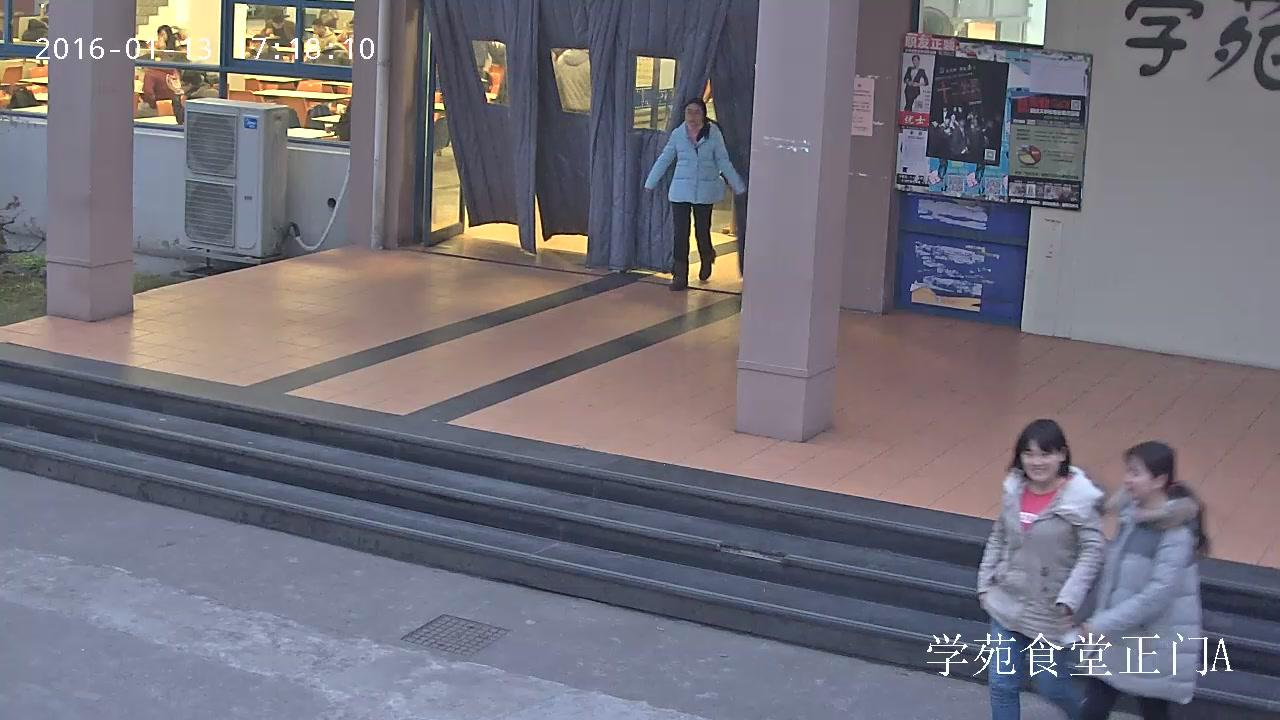person: (1064, 440, 1208, 720), (976, 419, 1108, 720), (644, 98, 746, 291), (164, 68, 220, 126), (550, 47, 592, 111), (134, 54, 174, 118), (903, 54, 929, 112), (305, 19, 341, 52), (261, 15, 294, 47)
